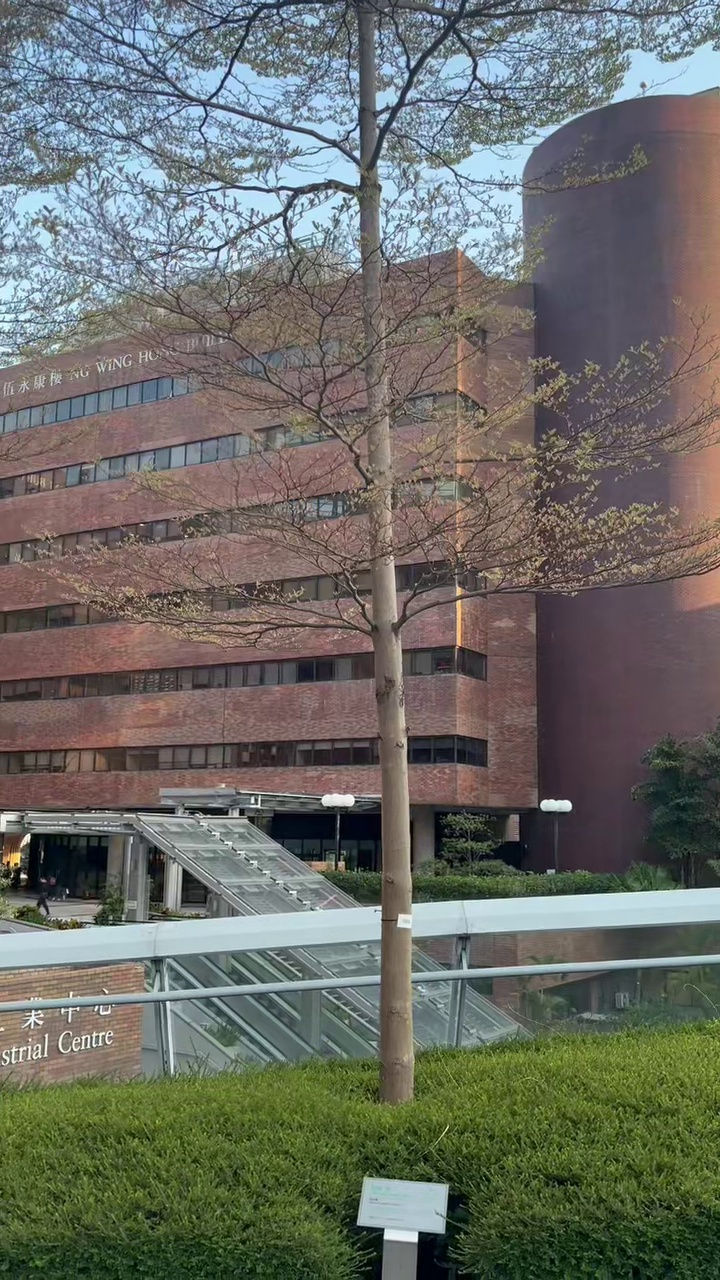Terminalia mantaly: (28, 0, 719, 1100)
